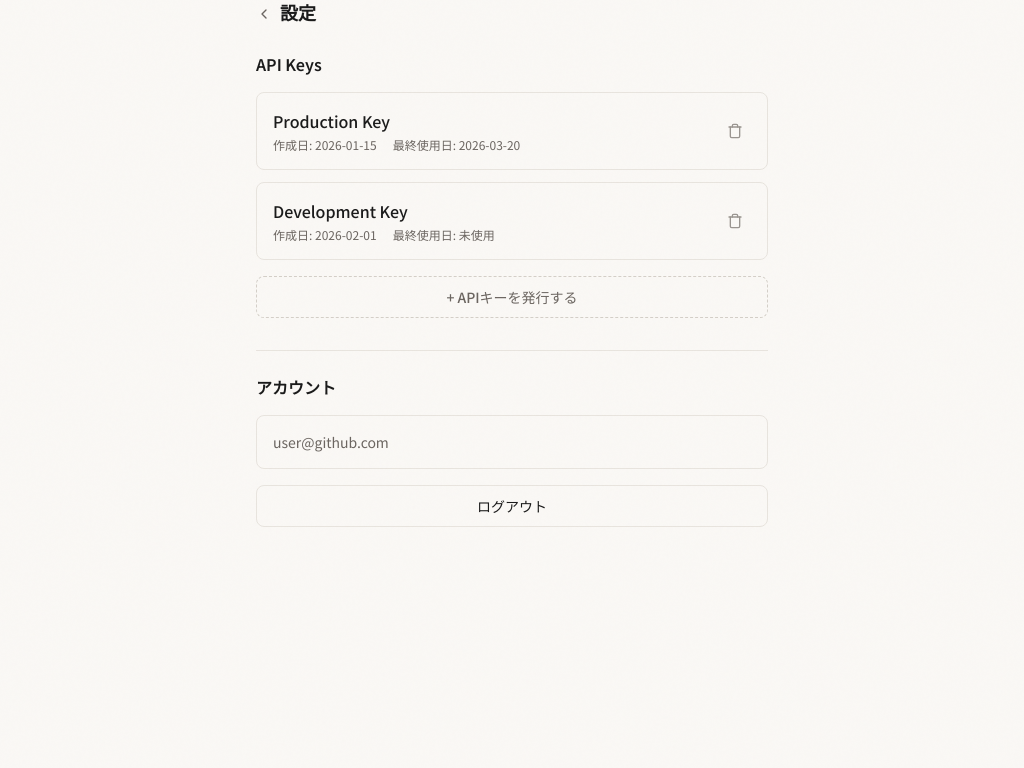
SettingsPage › create key button › should open create dialog when button clicked
Click the button "+ APIキーを発行する" at (512,297), box [256,276,768,318]
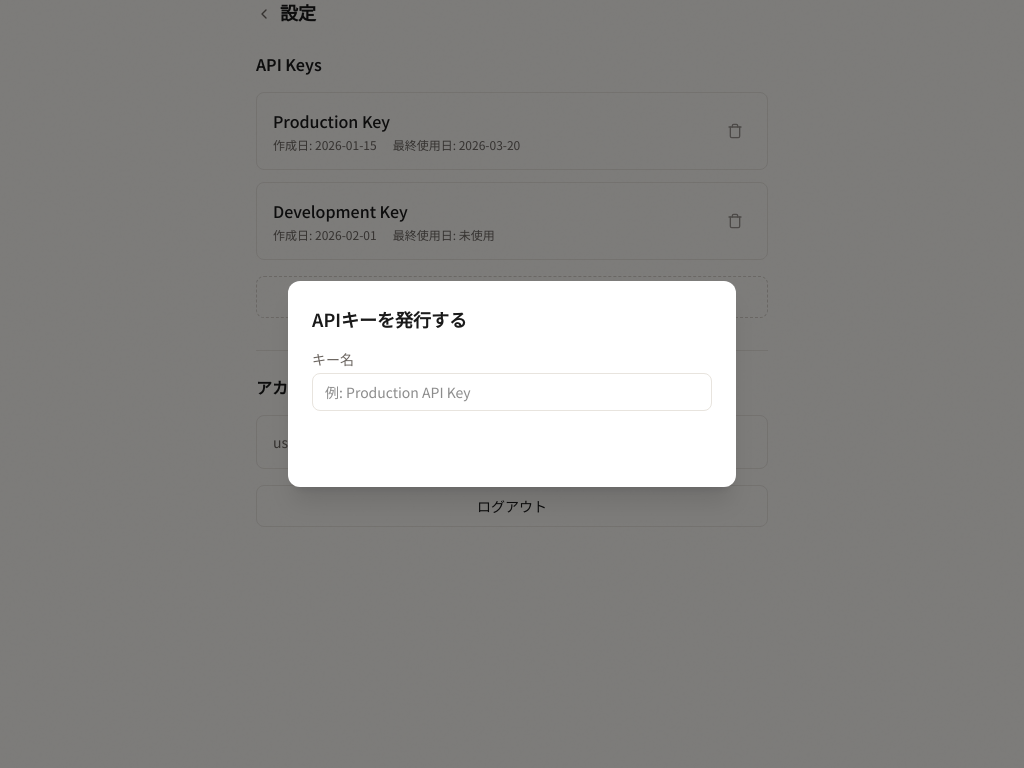
Check: the text "キー名" is shown, box [312,349,354,369]
